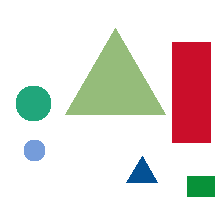circle: (16, 86, 50, 120), (24, 140, 44, 160)
rectangle: (172, 42, 210, 142), (187, 176, 214, 196)
triangle: (65, 28, 165, 114), (126, 156, 157, 182)
